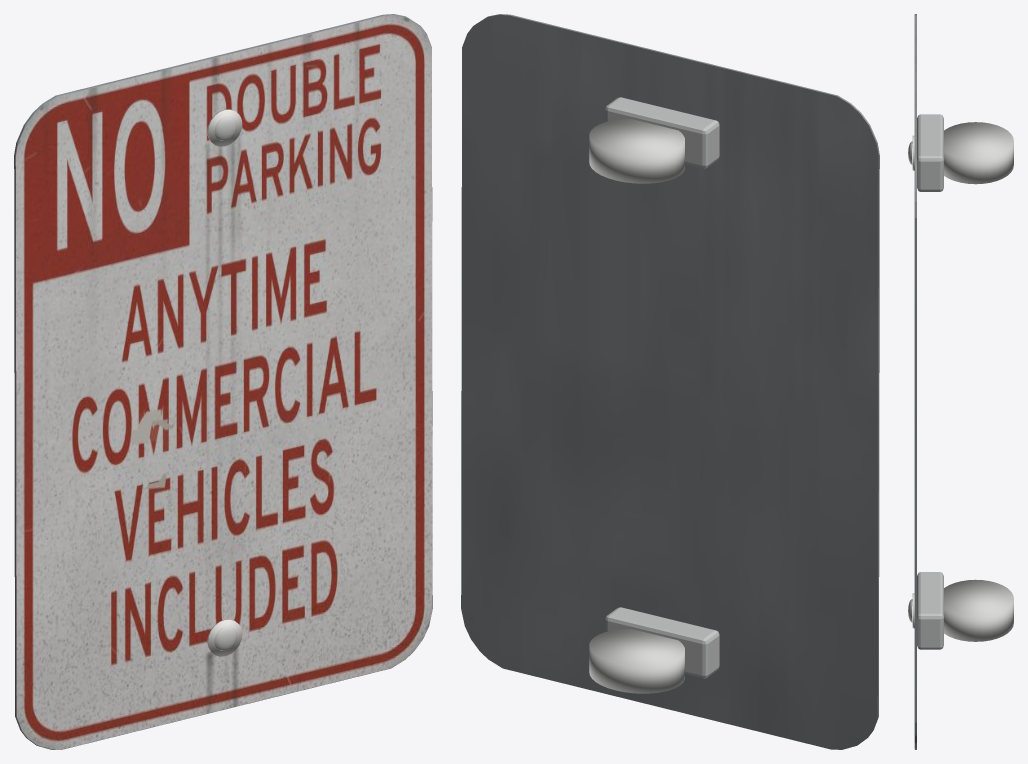
File: noDoubleParking-v1.glb
3 views of the same model, side by side, from view 1: azimuth 30°, elevation 25°; view 2: azimuth 150°, elevation 25°; view 3: azimuth 270°, elevation 25° (orthographic). The views are drawn at different scales.
Visible parts, largest first — view 1: noDoubleParking-v1; view 2: noDoubleParking-v1; view 3: noDoubleParking-v1.
Boxes of the visible parts, <box> form: noDoubleParking-v1: <box>14,14,432,749</box>; noDoubleParking-v1: <box>461,14,879,749</box>; noDoubleParking-v1: <box>908,14,1013,749</box>.
Bounding box in the file's own units: 0.3556 × 0.5335 × 0.0871.
Materials: 1 (1 with a texture image).
